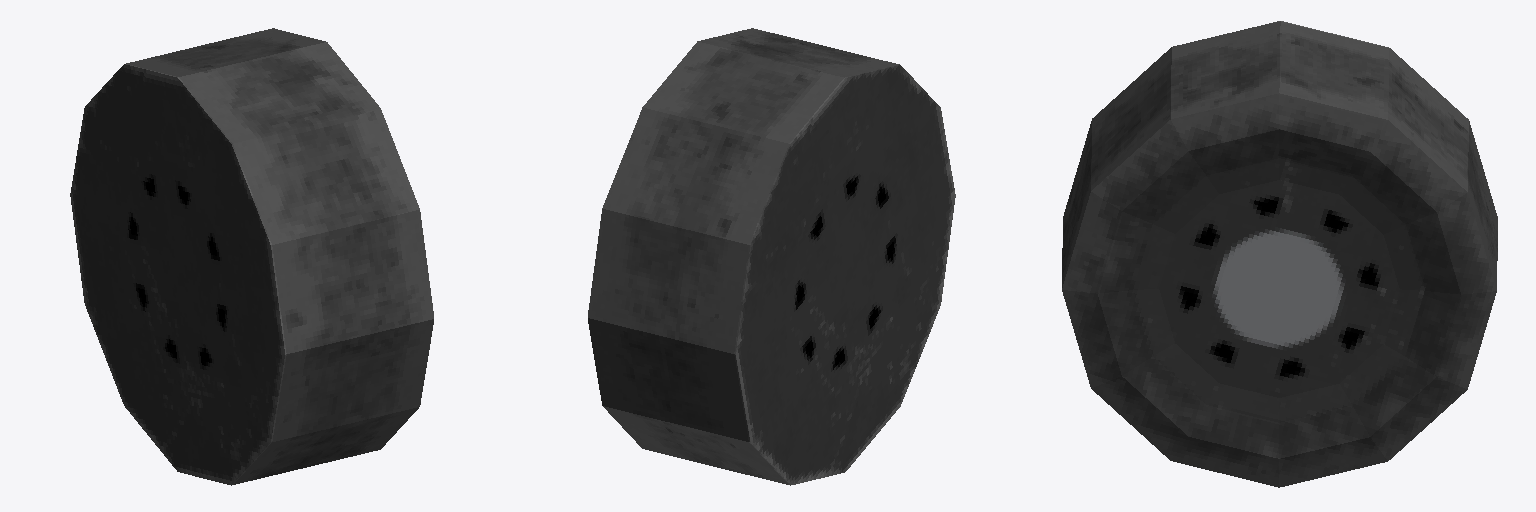
3 renders of one model, left to right at view 1: azimuth 30°, elevation 25°; view 2: azimuth 150°, elevation 25°; view 3: azimuth 270°, elevation 25°, orthographic.
Parts seen in each view (by area): view 1: llantaAtDer; view 2: llantaAtDer; view 3: llantaAtDer.
Part boxes in pixels (left/top/right/bottom): llantaAtDer: left=70, top=28, right=433, bottom=485; llantaAtDer: left=588, top=28, right=955, bottom=485; llantaAtDer: left=1062, top=21, right=1497, bottom=487.
Bounding box in the file's own units: 1.77 × 4.22 × 4.23.
1 materials, 1 textured.